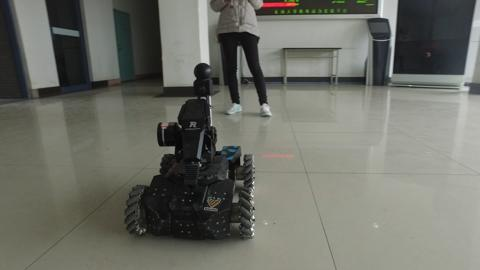chariot: (119, 60, 258, 240)
